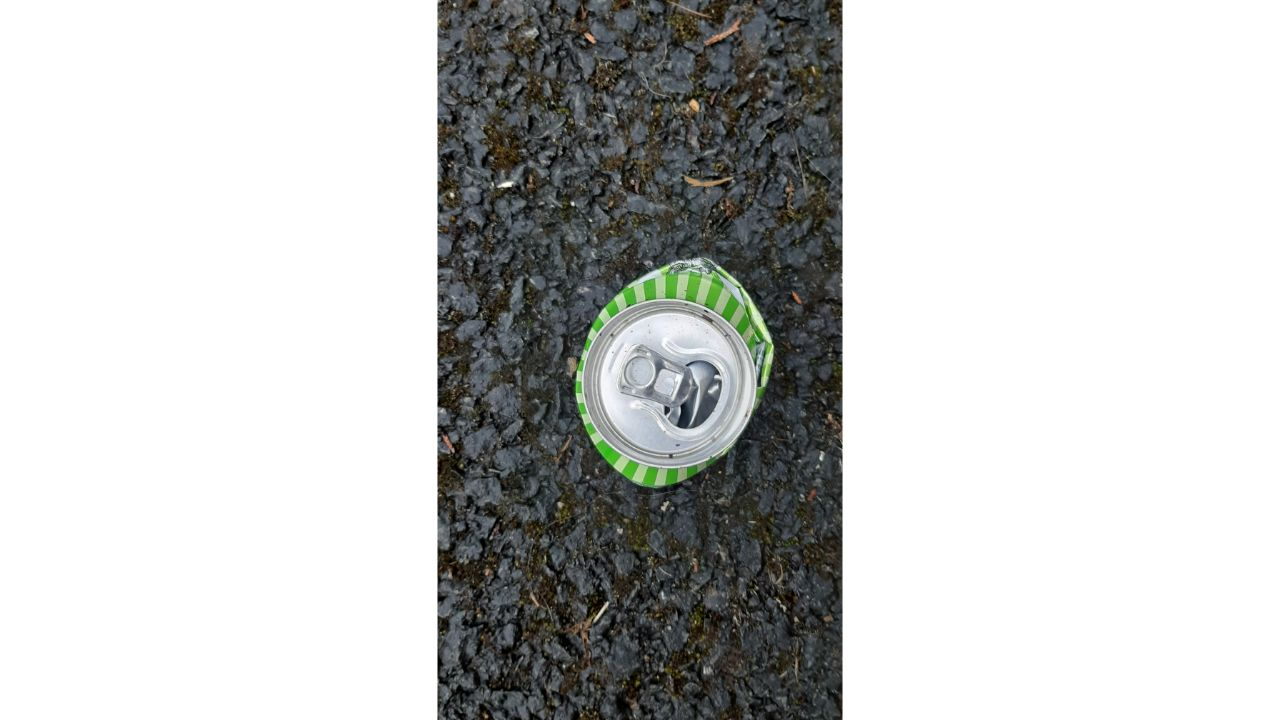Can: (574, 256, 774, 491)
